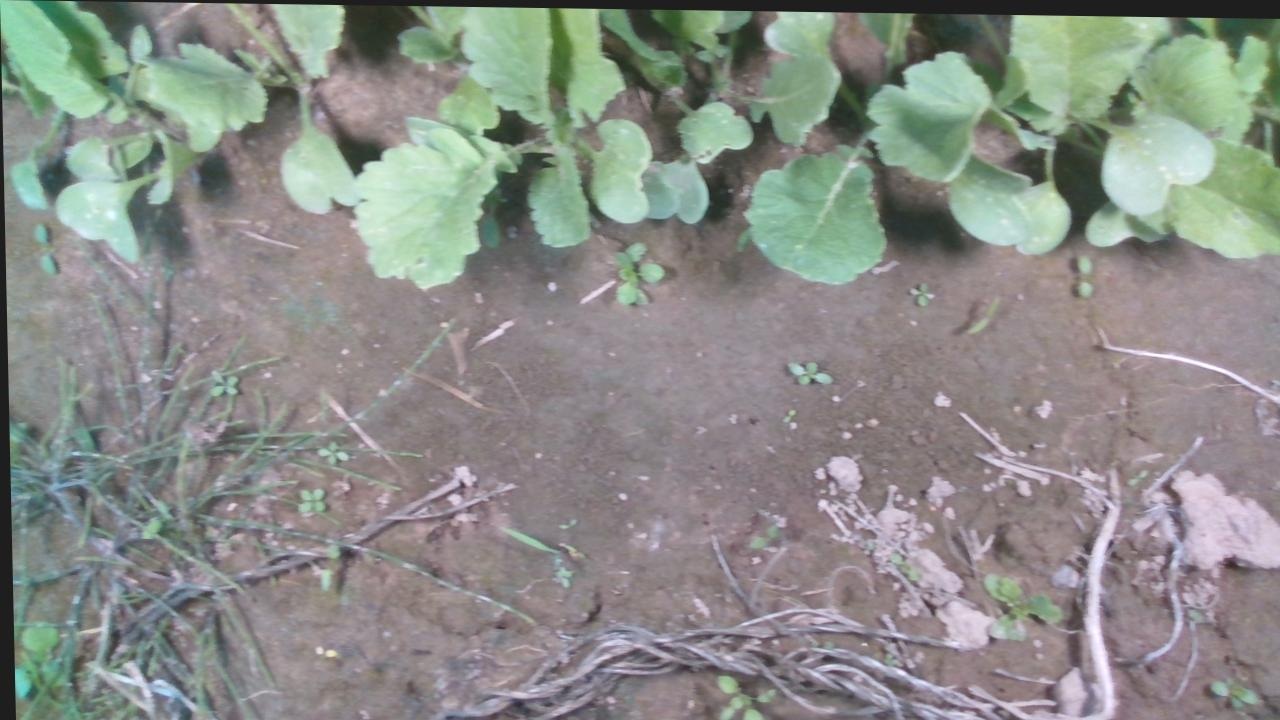weed: (29, 221, 58, 279), (782, 356, 831, 384), (1073, 250, 1094, 294), (907, 276, 933, 305), (778, 404, 794, 419)
